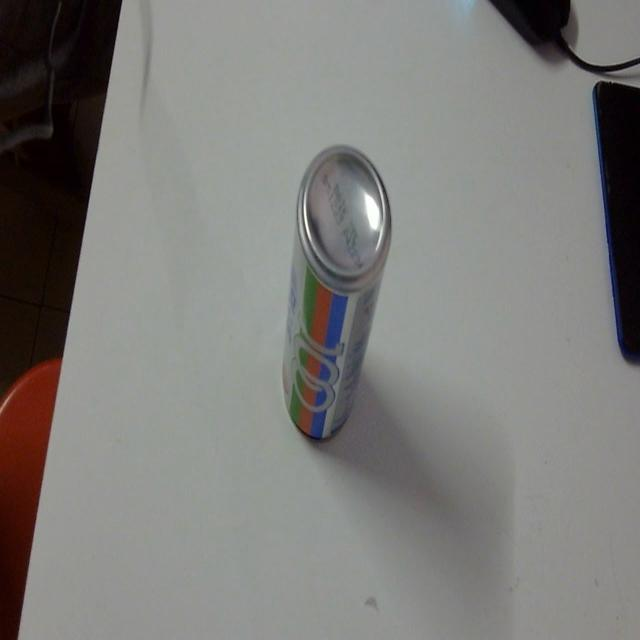metal_standrotation: (277, 126, 394, 458)
